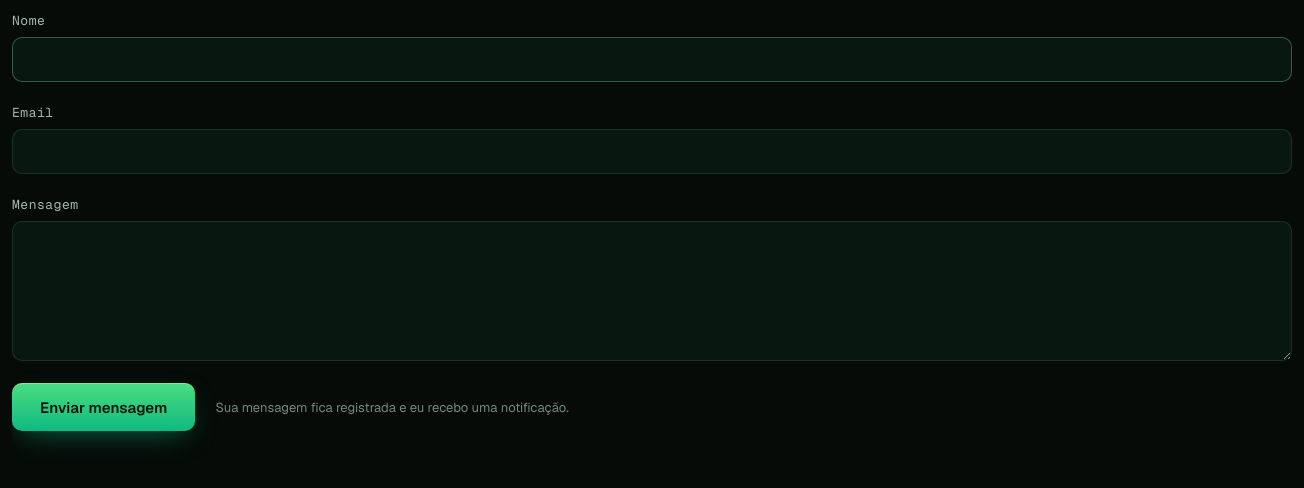
Test: ContactForm › shows the backend validation message on error
The image size is (1304, 488).
In the field labelled "Nome": point(652, 60) x1=12 y1=37 x2=1292 y2=82, type "Ana"
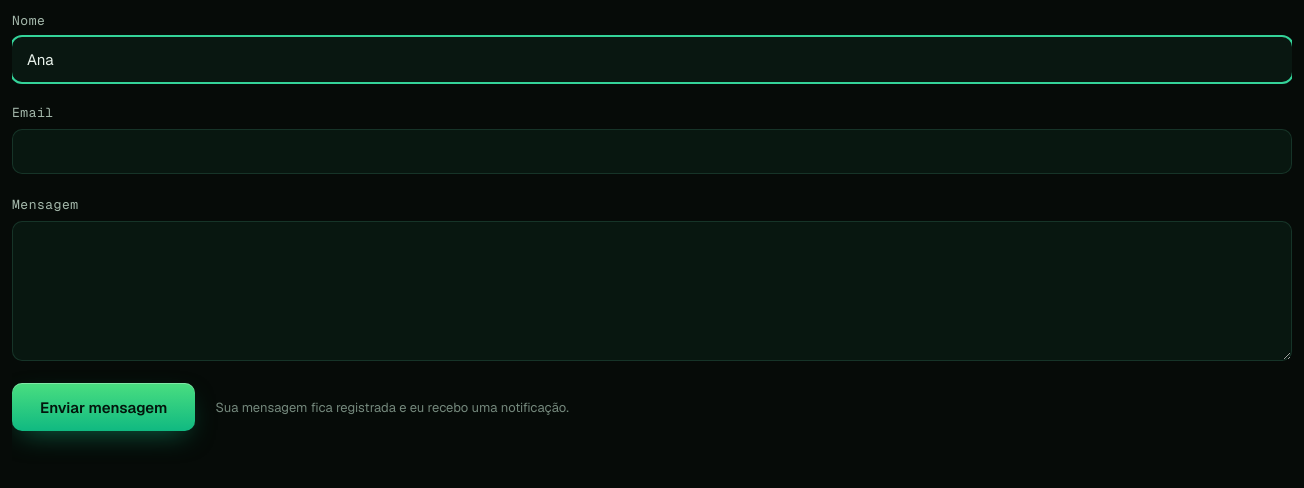
In the field labelled "Email": point(652, 152) x1=12 y1=129 x2=1292 y2=174, type "ana@example.com"
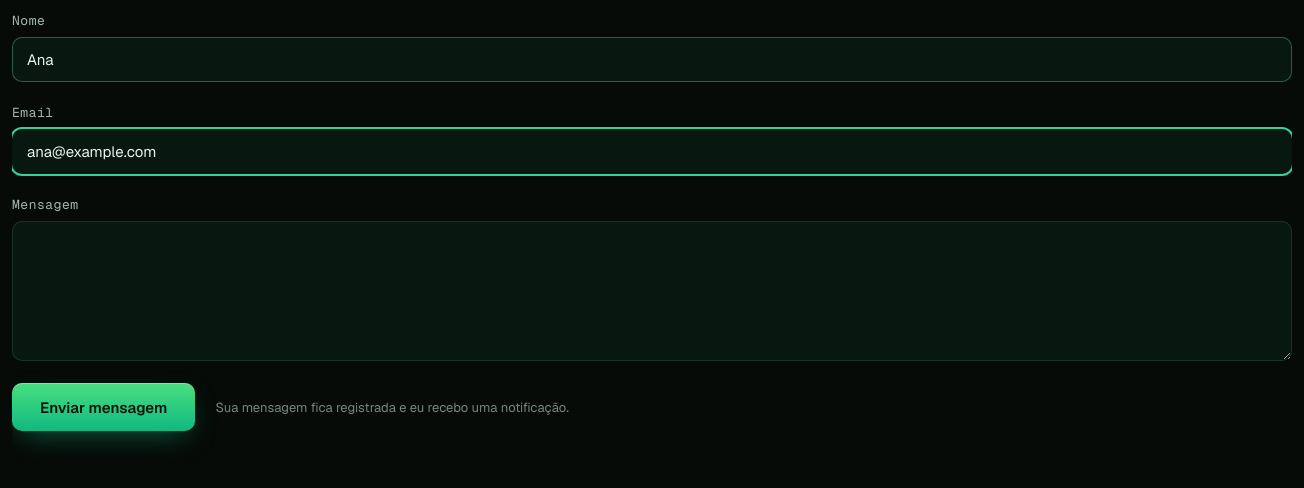
In the text box labelled "Mensagem": point(652, 291) x1=12 y1=221 x2=1292 y2=361, type "Olá, Victor!"
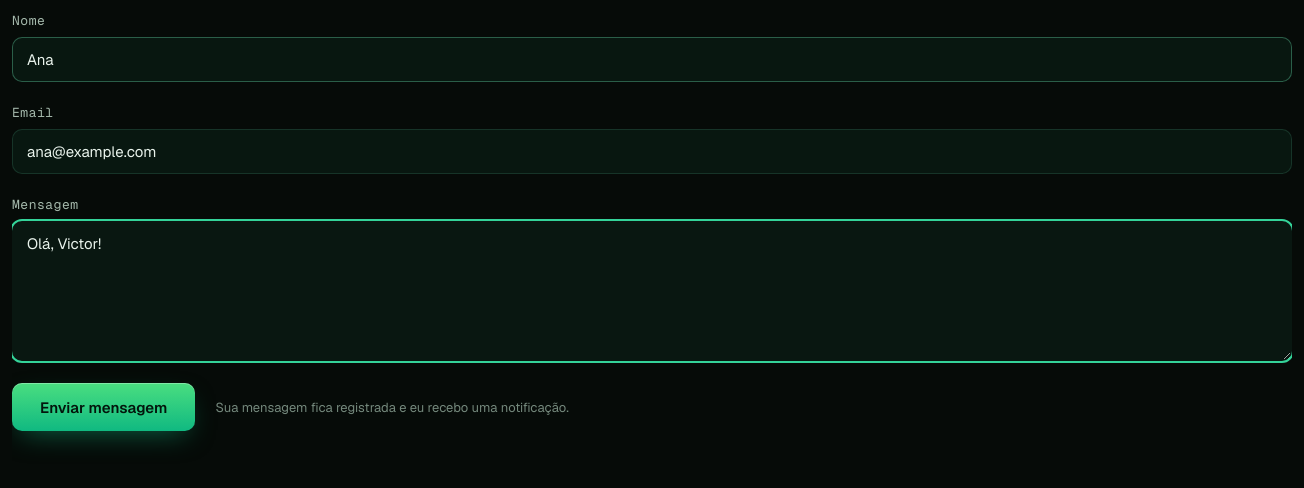
Click the button "Enviar mensagem": point(104, 407) x1=12 y1=383 x2=195 y2=431
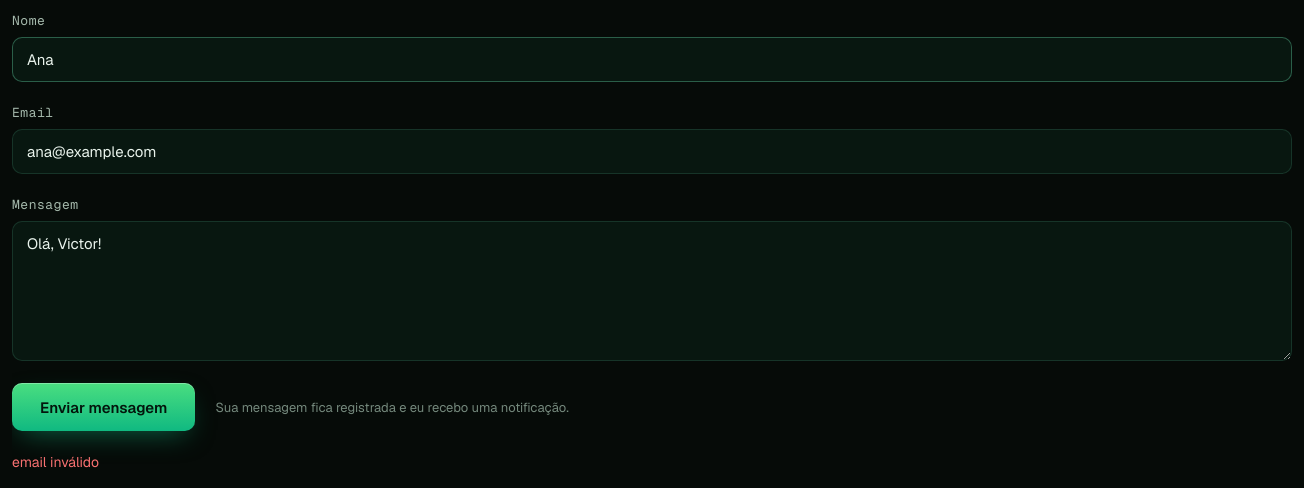
Expected: the message reads "email inválido", x1=12 y1=453 x2=99 y2=471
